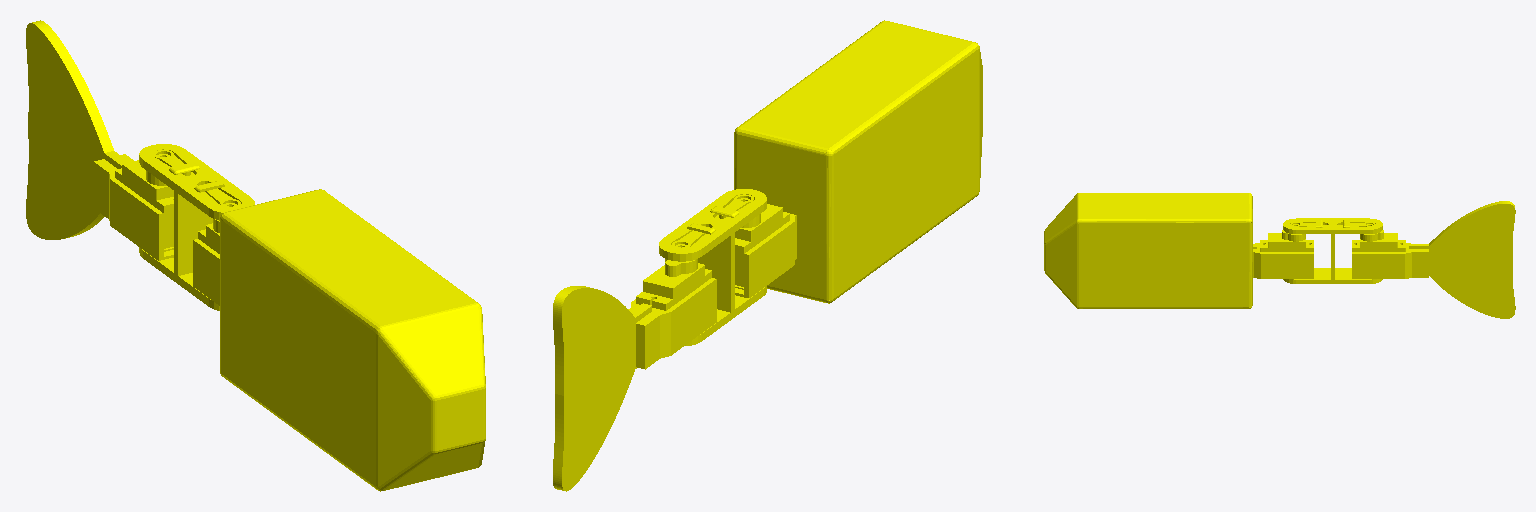
The robot description file, URDF, robot "fish_assembly":
<?xml version="1.0" encoding="utf-8"?>
<!-- This URDF was automatically created by SolidWorks to URDF Exporter! Originally created by [author] ([email redacted]) 
     Commit Version: 1.6.0-4-g7f85cfe  Build Version: 1.6.7995.38578
     For more information, please see http://wiki.ros.org/sw_urdf_exporter -->
<robot
  name="fish_assembly">
  <link
    name="base_link">
    <inertial>
      <origin
        xyz="0 0 0"
        rpy="0 0 0" />
      <mass
        value="0.092267" />
      <inertia
        ixx="0.00010629"
        ixy="2.2631E-12"
        ixz="-2.9394E-11"
        iyy="8.9653E-05"
        iyz="6.7515E-08"
        izz="5.1951E-05" />
    </inertial>
    <visual>
      <origin
        xyz="0 0 0"
        rpy="0 0 0" />
      <geometry>
        <mesh
          filename="package://simple_test/meshes/base_link.STL"/>
      </geometry>
      <material
        name="">
        <color
          rgba="205 36 0 1" />
      </material>
    </visual>
    <collision>
      <origin
        xyz="0 0 0"
        rpy="0 0 0" />
      <geometry>
        <mesh
          filename="package://simple_test/meshes/base_link.STL"/>
      </geometry>
    </collision>
  </link>
  <link
    name="hinge">
    <inertial>
      <origin
        xyz="8.97494951621058E-10 -0.000797039265124824 -0.0220000000361847"
        rpy="0 0 0" />
      <mass
        value="0.0062312806476421" />
      <inertia
        ixx="2.60815704438985E-06"
        ixy="-8.72442085069853E-14"
        ixz="2.40121324673897E-15"
        iyy="1.34325629154635E-06"
        iyz="4.8120978290785E-15"
        izz="1.55188300205984E-06" />
    </inertial>
    <visual>
      <origin
        xyz="0 0 0"
        rpy="0 0 0" />
      <geometry>
        <mesh
          filename="package://simple_test/meshes/hinge.STL"/>
      </geometry>
      <material
        name="">
        <color
          rgba="205 36 0 1" />
      </material>
    </visual>
    <collision>
      <origin
        xyz="0 0 0"
        rpy="0 0 0" />
      <geometry>
        <mesh
          filename="package://simple_test/meshes/hinge.STL"/>
      </geometry>
    </collision>
  </link>
  <joint
    name="Hinge"
    type="revolute">
    <origin
      xyz="-0.0027253 0.13451 0"
      rpy="1.5708 0 0" />
    <parent
      link="base_link" />
    <child
      link="hinge" />
    <axis
      xyz="0 1 0" />
    <limit
      lower="-1.57"
      upper="1.57"
      effort="0"
      velocity="0" />
  </joint>
  <link
    name="tail">
    <inertial>
      <origin
        xyz="-1.90043207236573E-07 -0.00466325403888013 0.034717835553689"
        rpy="0 0 0" />
      <mass
        value="0.0253004820243259" />
      <inertia
        ixx="8.88070715820997E-06"
        ixy="2.92759610946354E-12"
        ixz="-2.87916781318165E-11"
        iyy="4.72425455528395E-06"
        iyz="2.39892154620853E-08"
        izz="4.70633595055703E-06" />
    </inertial>
    <visual>
      <origin
        xyz="0 0 0"
        rpy="0 0 0" />
      <geometry>
        <mesh
          filename="package://simple_test/meshes/tail.STL"/>
      </geometry>
      <material
        name="">
        <color
          rgba="205 36 0 1" />
      </material>
    </visual>
    <collision>
      <origin
        xyz="0 0 0"
        rpy="0 0 0" />
      <geometry>
        <mesh
          filename="package://simple_test/meshes/tail.STL"/>
      </geometry>
    </collision>
  </link>
  <joint
    name="Tail"
    type="revolute">
    <origin
      xyz="0 0 -0.044"
      rpy="3.1416 0 3.1416" />
    <parent
      link="hinge" />
    <child
      link="tail" />
    <axis
      xyz="0 1 0" />
    <limit
      lower="-1.57"
      upper="1.57"
      effort="0"
      velocity="0" />
  </joint>
</robot>

--- Render facts (derived) ---
The picture shows the robot from 3 angles, left to right: view 1: azimuth 30°, elevation 25°; view 2: azimuth 150°, elevation 25°; view 3: azimuth 270°, elevation 25°; orthographic projection.
Model fish_assembly with 3 links and 2 joints (2 revolute), rooted at base_link, posed every joint at zero.
Links seen in each view (by area): view 1: base_link, tail, hinge; view 2: base_link, tail, hinge; view 3: base_link, tail, hinge.
Boxes of the visible links, x1,y1,x2,y2 form: base_link: (193, 188, 485, 491); tail: (26, 20, 190, 260); hinge: (139, 144, 254, 310); base_link: (719, 20, 982, 303); tail: (553, 230, 716, 491); hinge: (659, 189, 766, 345); base_link: (1044, 193, 1315, 308); tail: (1350, 201, 1515, 318); hinge: (1283, 218, 1382, 283).
Bounding box of the posed robot: 0.04 × 0.283 × 0.0765 m (x, y, z).
3 mesh visuals loaded from 3 distinct referenced files (3 binary STL).